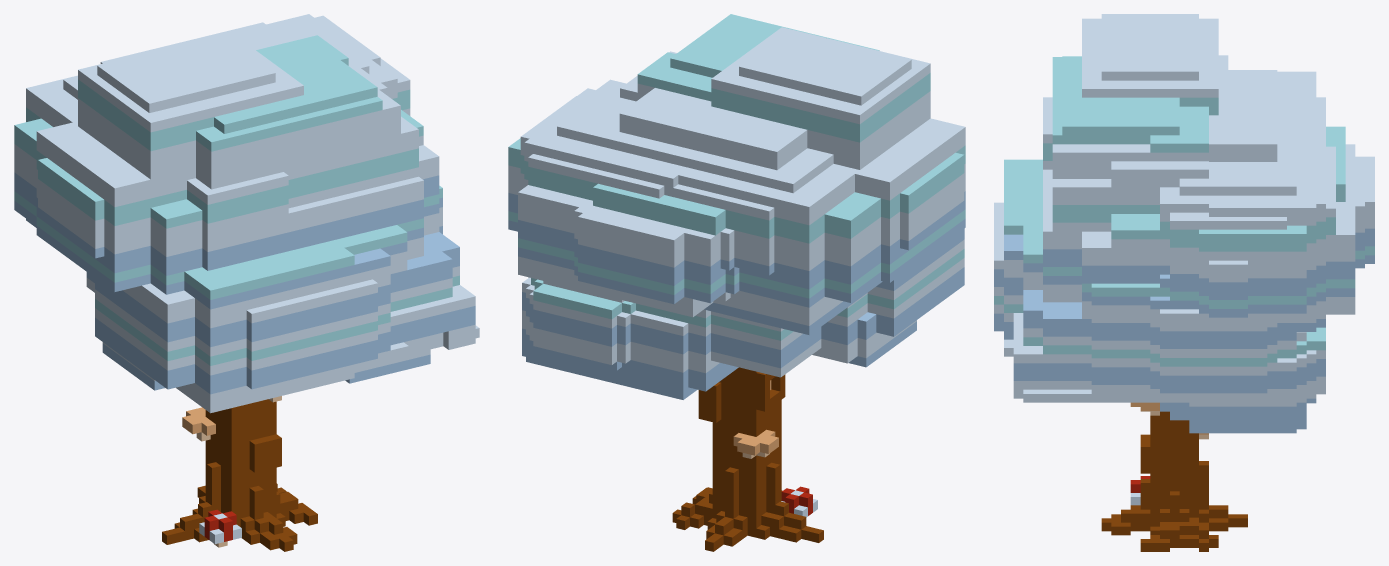
File: tree_C.obj
3 views of the same model, side by side, from view 1: azimuth 30°, elevation 25°; view 2: azimuth 150°, elevation 25°; view 3: azimuth 270°, elevation 25° (orthographic). The views are drawn at different scales.
Size of the model in its own units: 4.1 by 5.1 by 3.9.
Materials: 1 (1 with a texture image).
